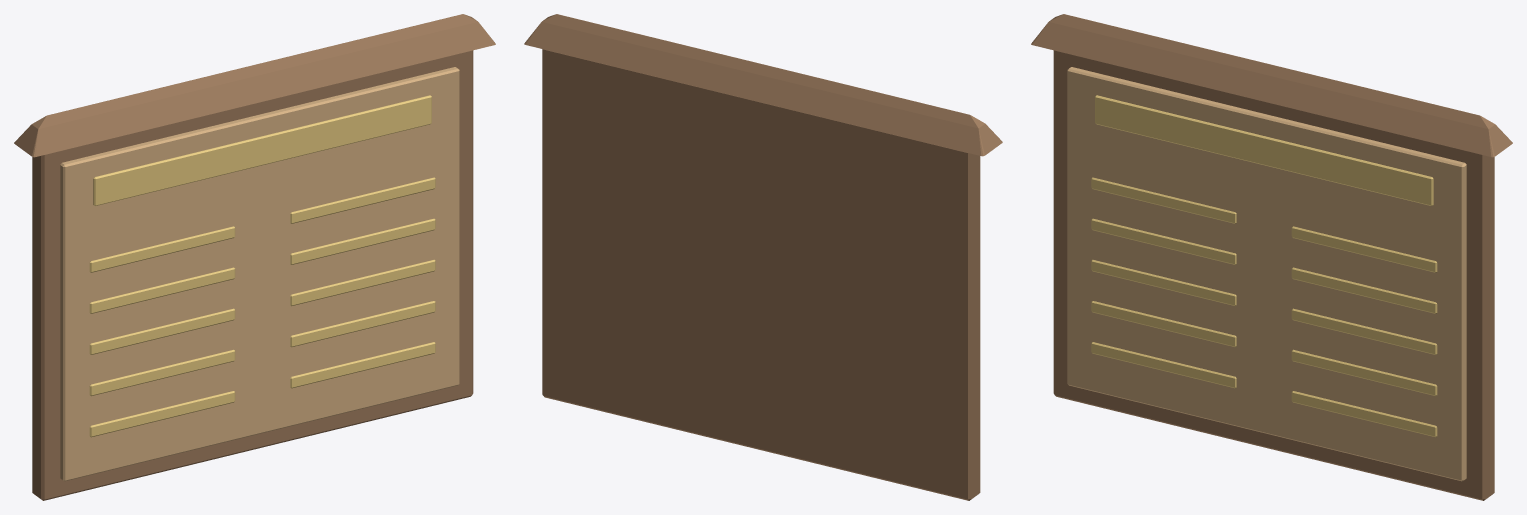
The picture shows the model from 3 angles, left to right: view 1: azimuth 30°, elevation 25°; view 2: azimuth 150°, elevation 25°; view 3: azimuth 330°, elevation 25°; orthographic projection.
Parts seen in each view (by area): view 1: honours-board; view 2: honours-board; view 3: honours-board.
Part boxes in pixels (x1,y1,x2,y2): honours-board: (14, 14, 495, 500); honours-board: (524, 14, 1002, 500); honours-board: (1031, 14, 1512, 500).
Bounding box in the file's own units: 1.18 × 0.9301 × 0.09.
